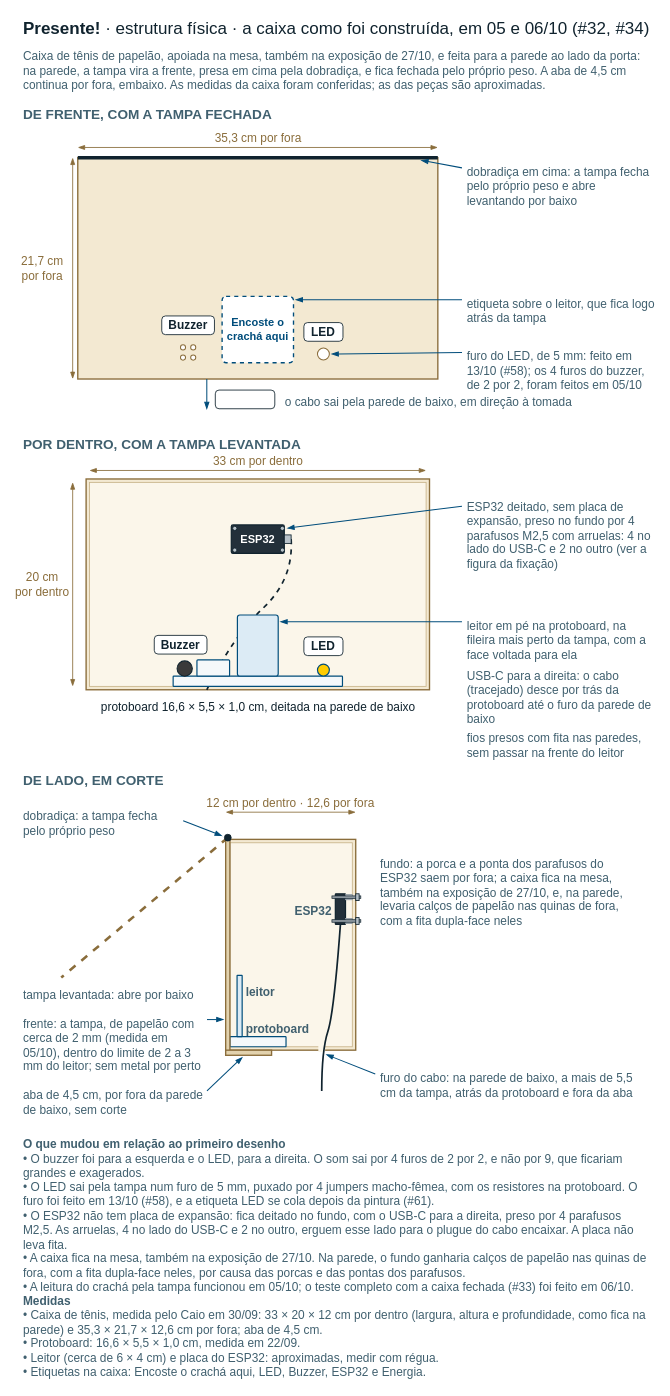
Some shapes in this 670 by 1396 pixel diagram are drawn without their labels. The centre of each missing label's shape, as x and y in pixels:
"Energia" goes at pixel 244 399.
"Leitor RC522" goes at pixel 257 645.
"TIP122" goes at pixel 213 667.
